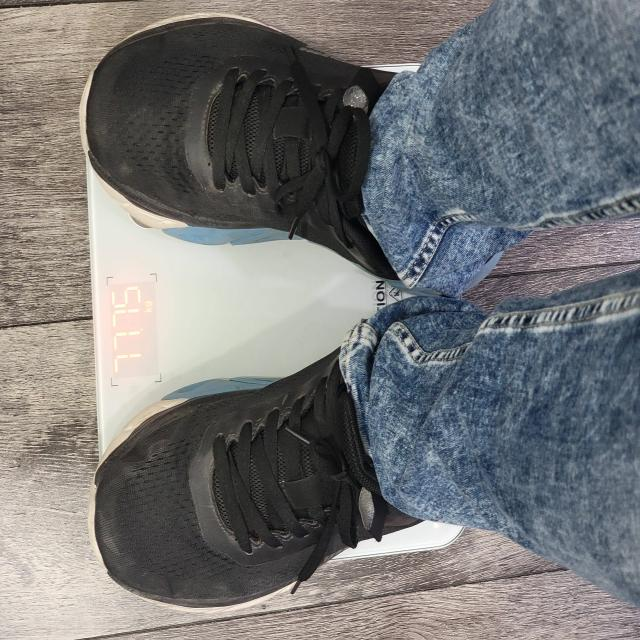ws: (88, 170, 380, 459)
